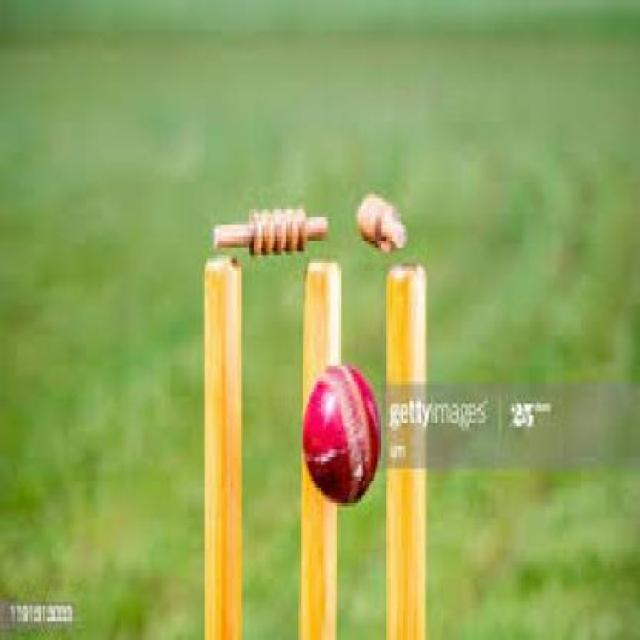ball: (258, 346, 403, 506)
